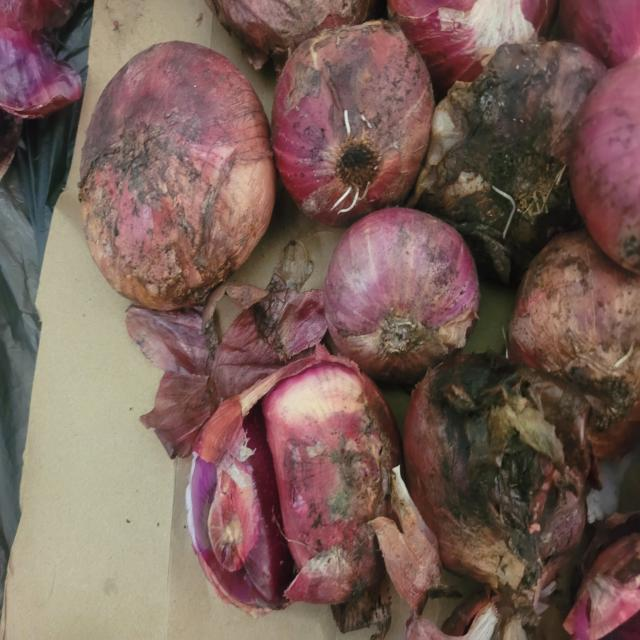mechanical_damage: (178, 356, 403, 632)
